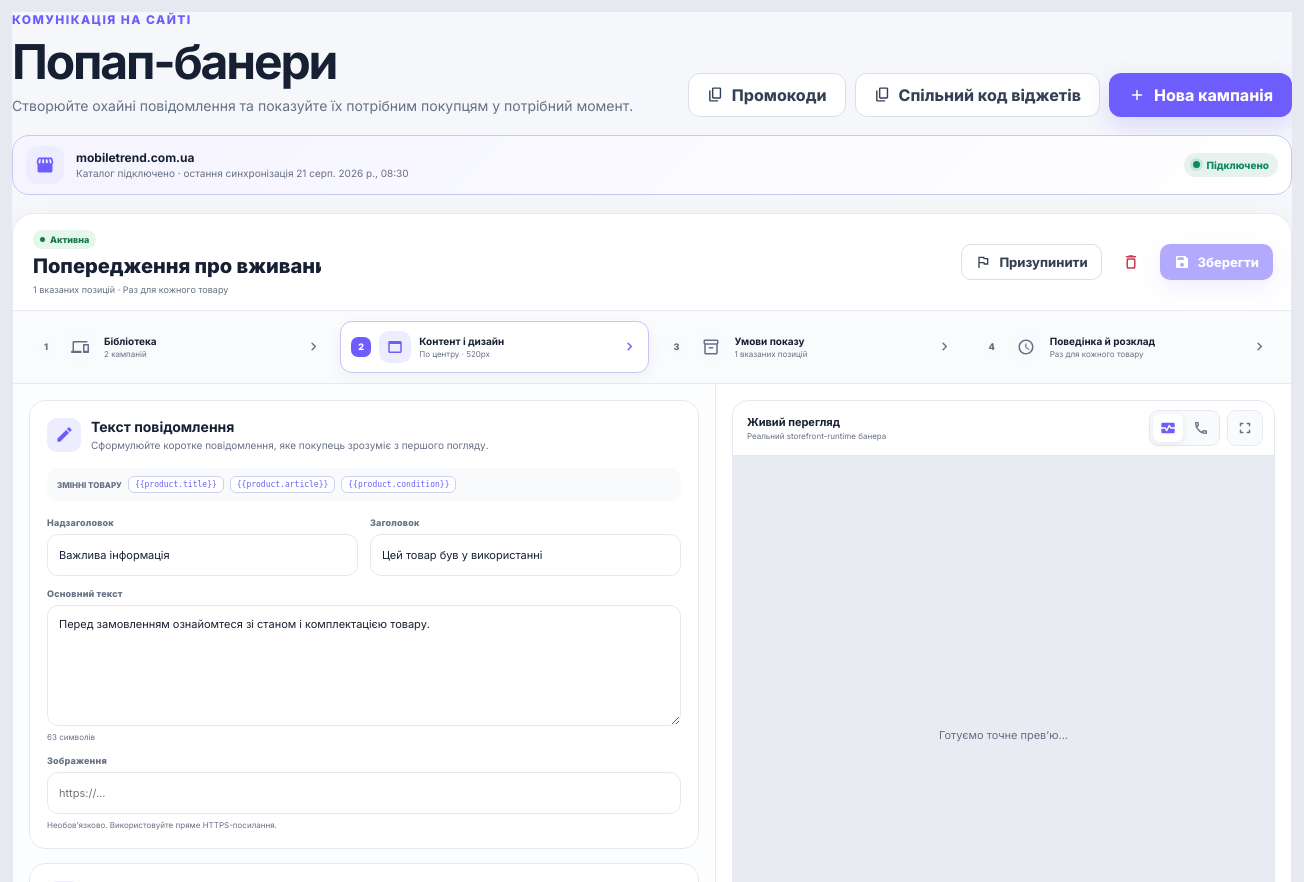
Test case: PopupBannersPage › filters the campaign library by search and status
Check: the field showing "Попередження про вживаний товар" is shown, box [33,254,321,279]
Click the button "1 Бібліотека 2 кампаній" at (80, 347), box [25,321,333,373]
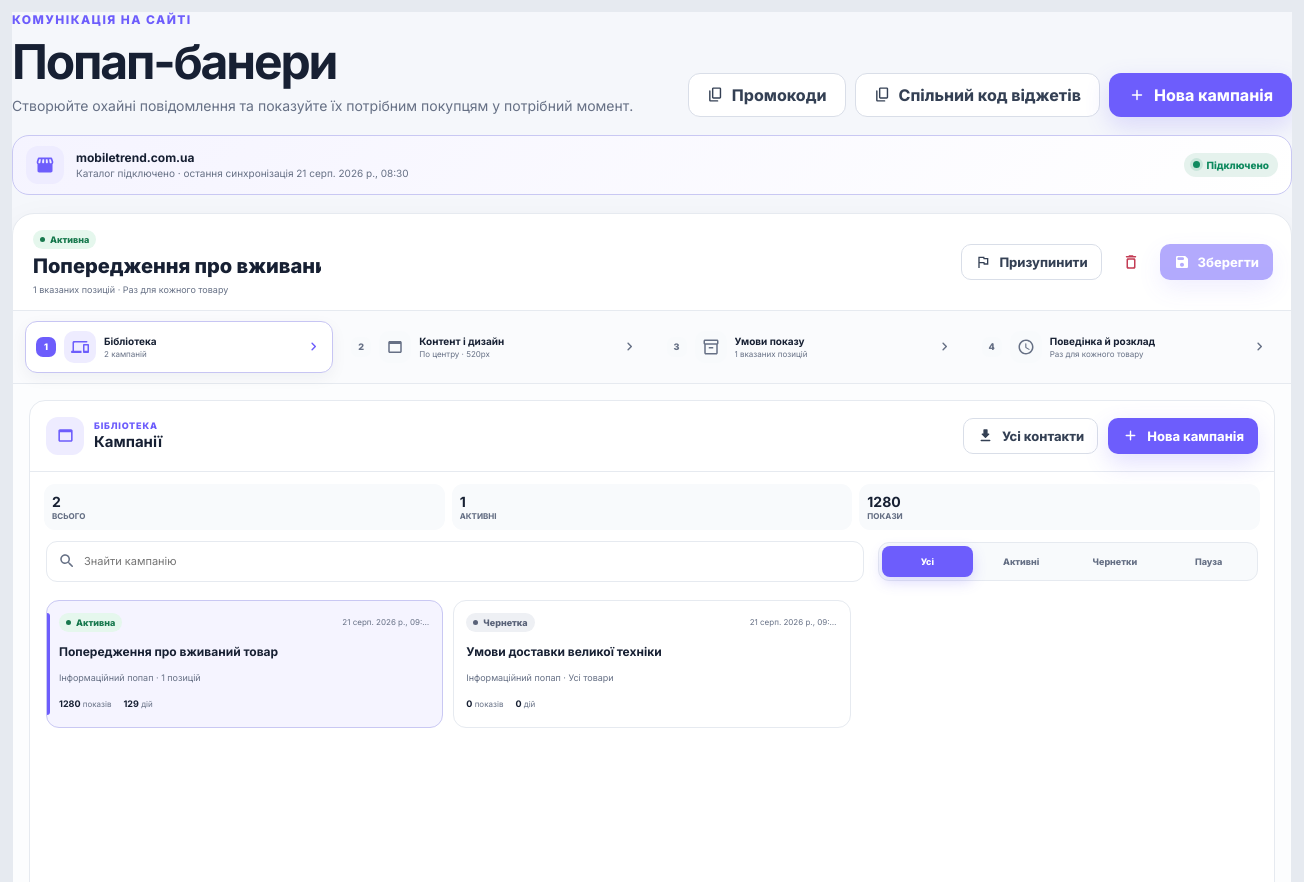
Type "доставки" into the field named "Пошук кампаній" at (468, 561), box [84,542,852,581]
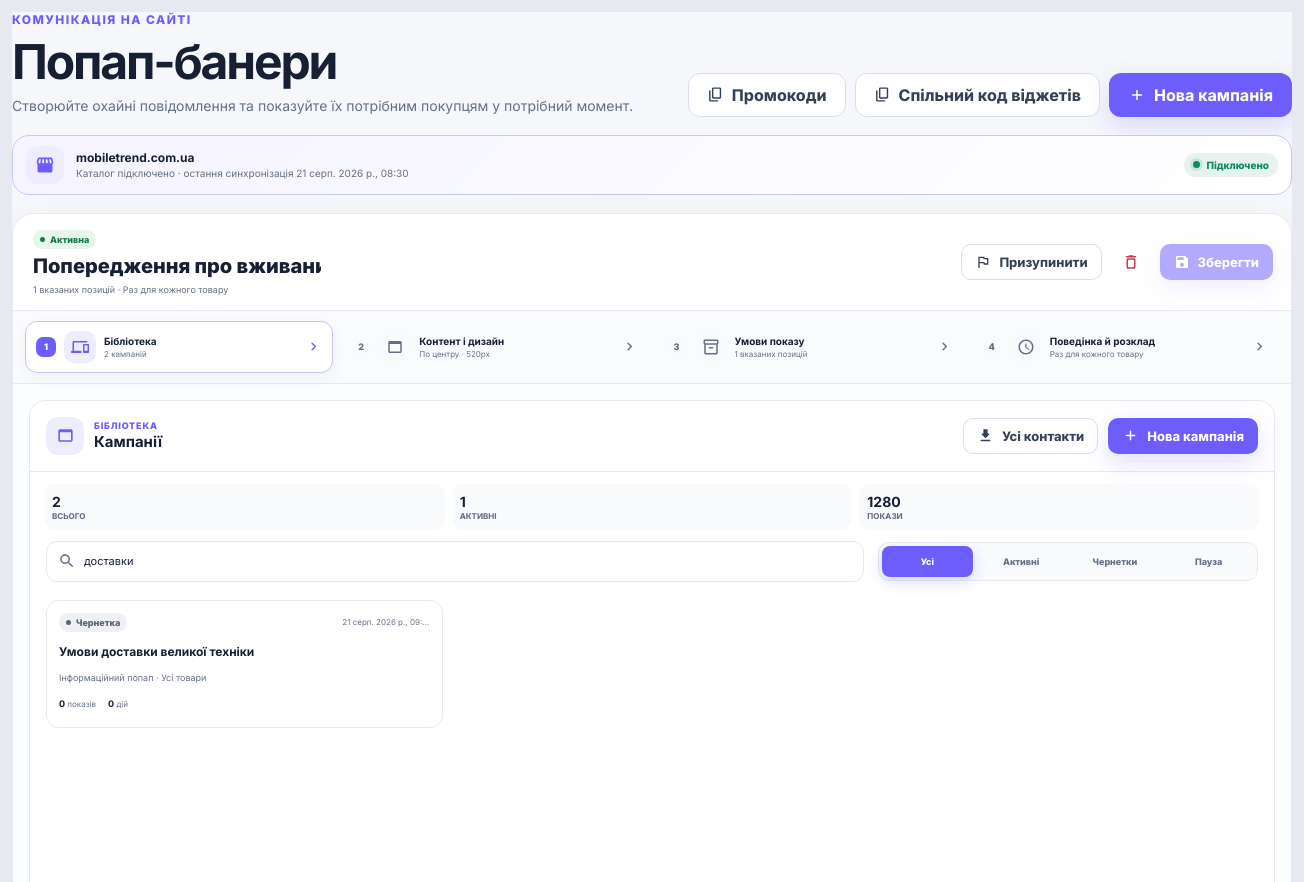
Check: the button "Умови доставки великої техніки" is shown, box [46,600,443,728]
Click the button "Активні" at (1021, 561), box [976,546,1067,577]
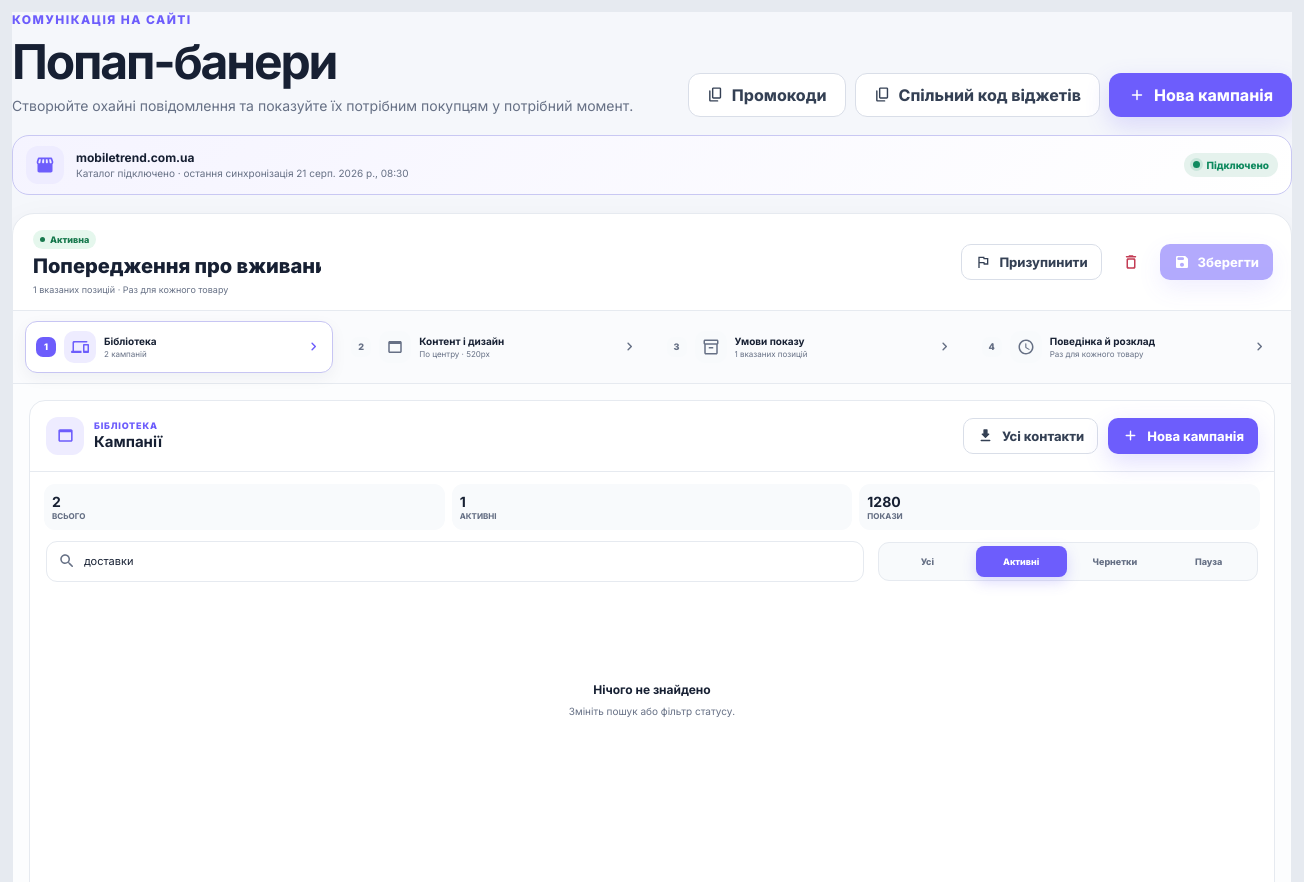
Check: the text "Нічого не знайдено" is shown, box [593,682,711,697]
